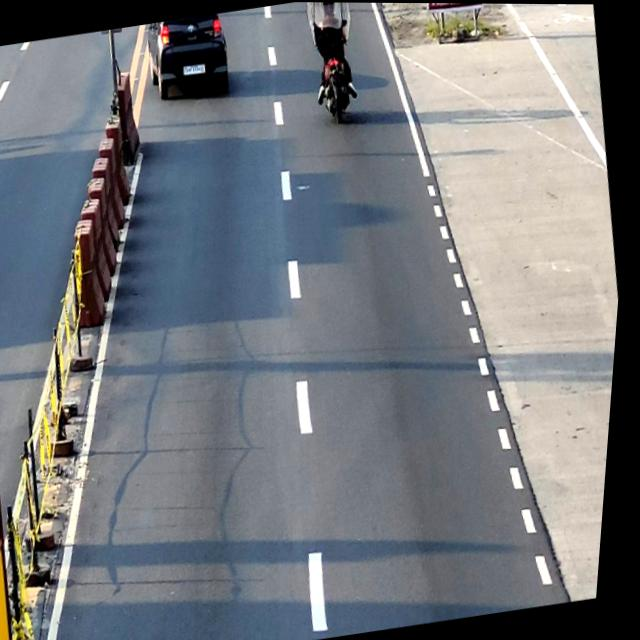Car: (141, 12, 236, 102)
License-Plate: (187, 63, 203, 75)
Motorcycle: (307, 14, 365, 126)
